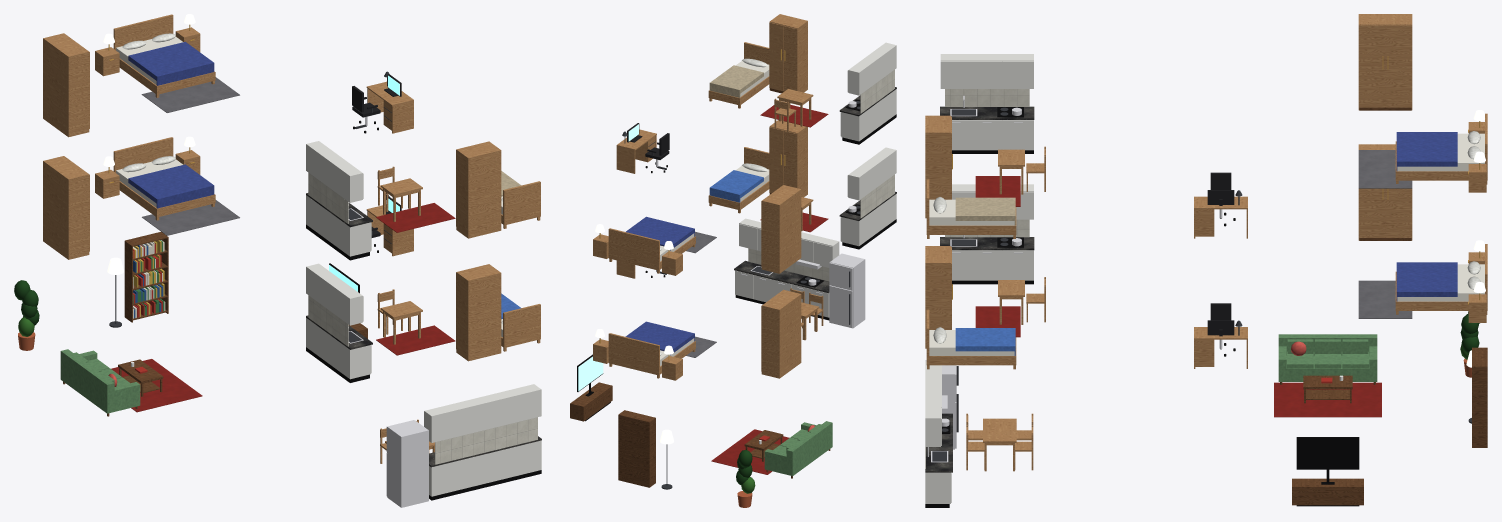
Rendered from i_shanghai_shikumen.gltf.
3 views of the same model, side by side, from view 1: azimuth 30°, elevation 25°; view 2: azimuth 150°, elevation 25°; view 3: azimuth 270°, elevation 25° (orthographic). The views are drawn at different scales.
Visible parts, largest first — view 1: I_shanghai_shikumen; view 2: I_shanghai_shikumen; view 3: I_shanghai_shikumen.
Part boxes in pixels (bbox=[...]): I_shanghai_shikumen: bbox=[14, 14, 541, 507]; I_shanghai_shikumen: bbox=[570, 14, 896, 507]; I_shanghai_shikumen: bbox=[925, 14, 1487, 507].
Bounding box in the file's own units: 7.36 × 8.8 × 12.52.
Materials: 32 (13 with a texture image).
